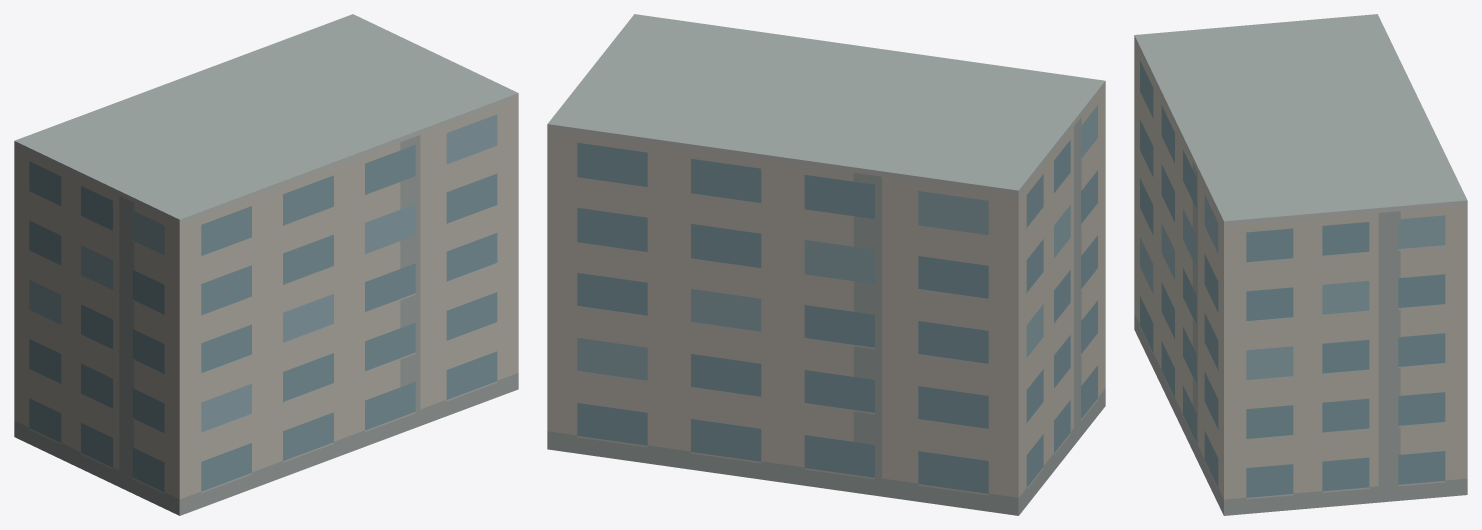
Rendered from residential-b29c54c1-a136-4115-80ed-c3576f9ae887.glb.
3 renders of one model, left to right at view 1: azimuth 30°, elevation 25°; view 2: azimuth 150°, elevation 25°; view 3: azimuth 270°, elevation 25°, orthographic. The views are drawn at different scales.
Parts seen in each view (by area): view 1: residential-b29c54c1-a136-4115-80ed-c3576f9ae887.tmp; view 2: residential-b29c54c1-a136-4115-80ed-c3576f9ae887.tmp; view 3: residential-b29c54c1-a136-4115-80ed-c3576f9ae887.tmp.
Part boxes in pixels (box(x1,y1,x2,y2)): residential-b29c54c1-a136-4115-80ed-c3576f9ae887.tmp: box(14, 14, 518, 515); residential-b29c54c1-a136-4115-80ed-c3576f9ae887.tmp: box(547, 14, 1105, 515); residential-b29c54c1-a136-4115-80ed-c3576f9ae887.tmp: box(1134, 14, 1467, 515).
Bounding box in the file's own units: 21.9 × 14.5 × 14.87.
